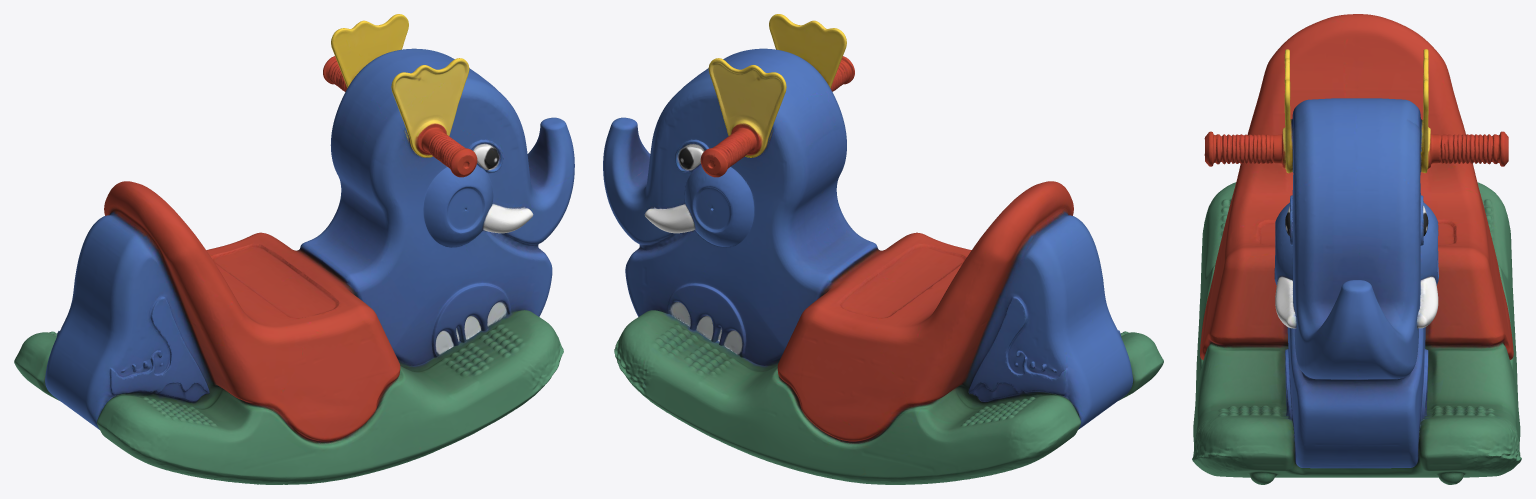
The model's file is Elephant Rocking Toy.glb.
The picture shows the model from 3 angles, left to right: view 1: azimuth 30°, elevation 25°; view 2: azimuth 150°, elevation 25°; view 3: azimuth 270°, elevation 25°; orthographic projection. The views are drawn at different scales.
Visible parts, largest first — view 1: pb_node; view 2: pb_node; view 3: pb_node.
Part boxes in pixels (<box>): pb_node: <box>14,14,574,484</box>; pb_node: <box>603,14,1163,484</box>; pb_node: <box>1192,14,1521,484</box>.
Size of the model in its own units: 0.9995 by 0.6949 by 0.4943.
Materials: 1 (1 with a texture image).
